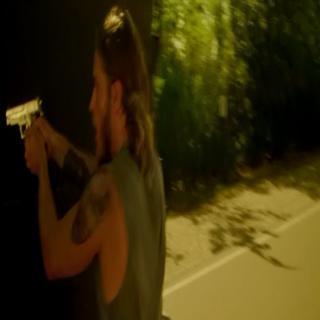gun: (8, 96, 49, 164)
